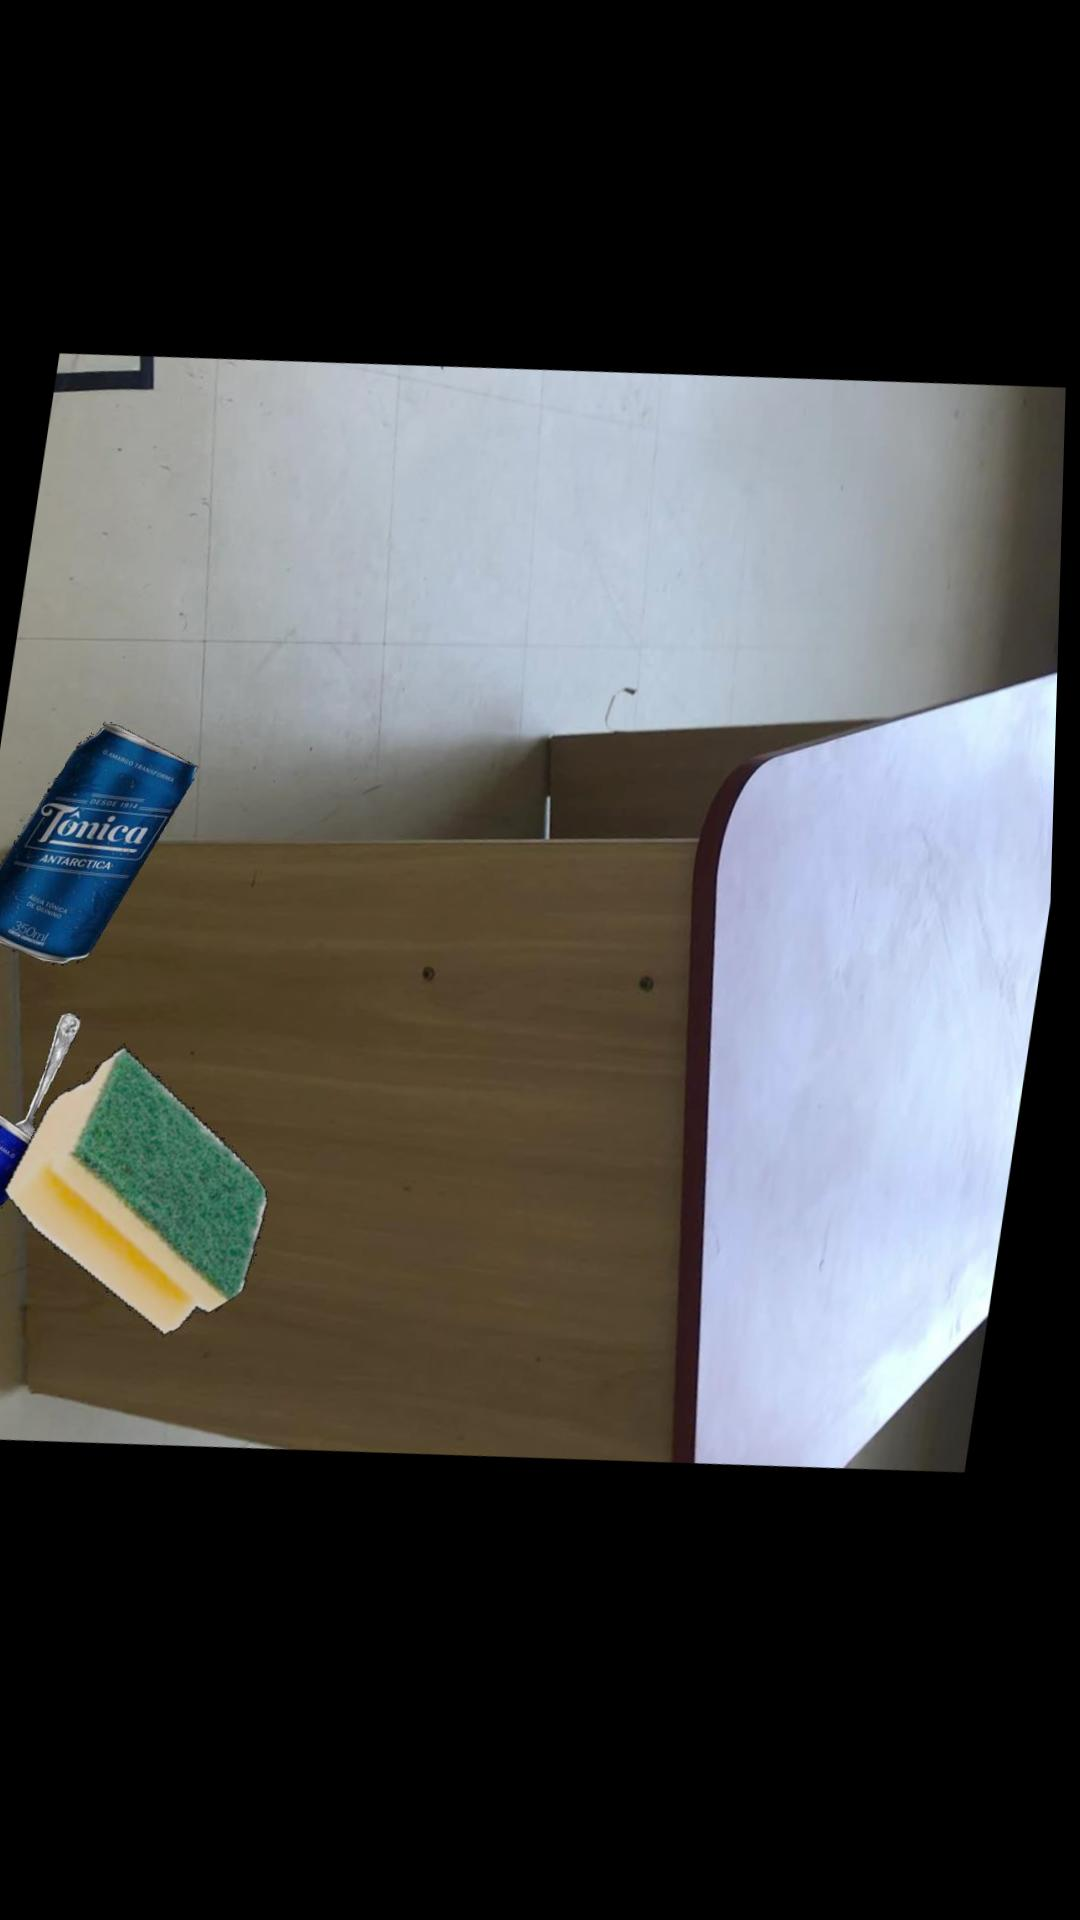sponge: (13, 1047, 277, 1336)
spoon: (22, 1011, 88, 1134)
tonic: (0, 724, 204, 965), (0, 1106, 41, 1216)
